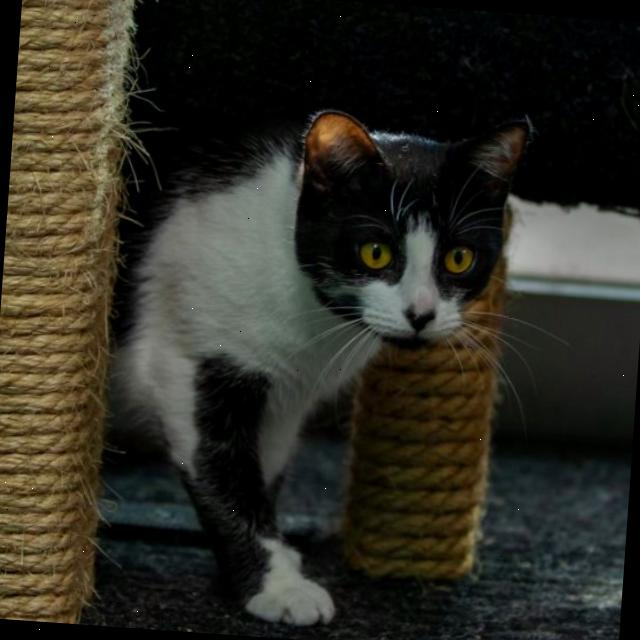domestic_short_hair_cat: (205, 71, 560, 423)
